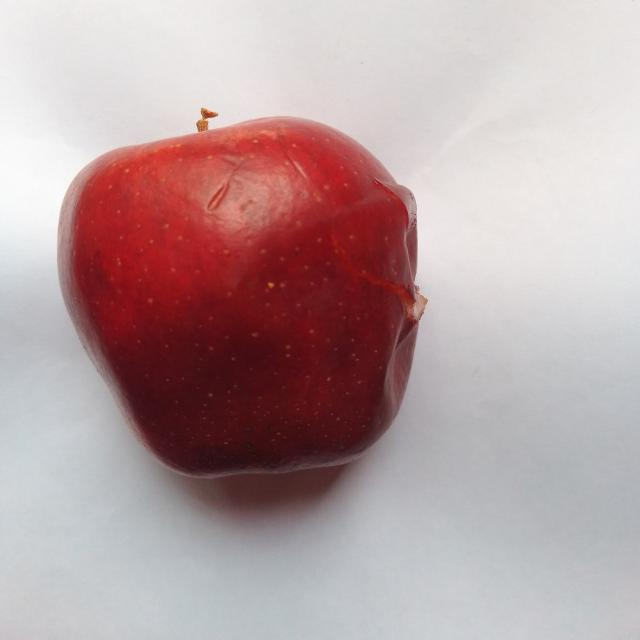apple: (59, 118, 425, 476)
